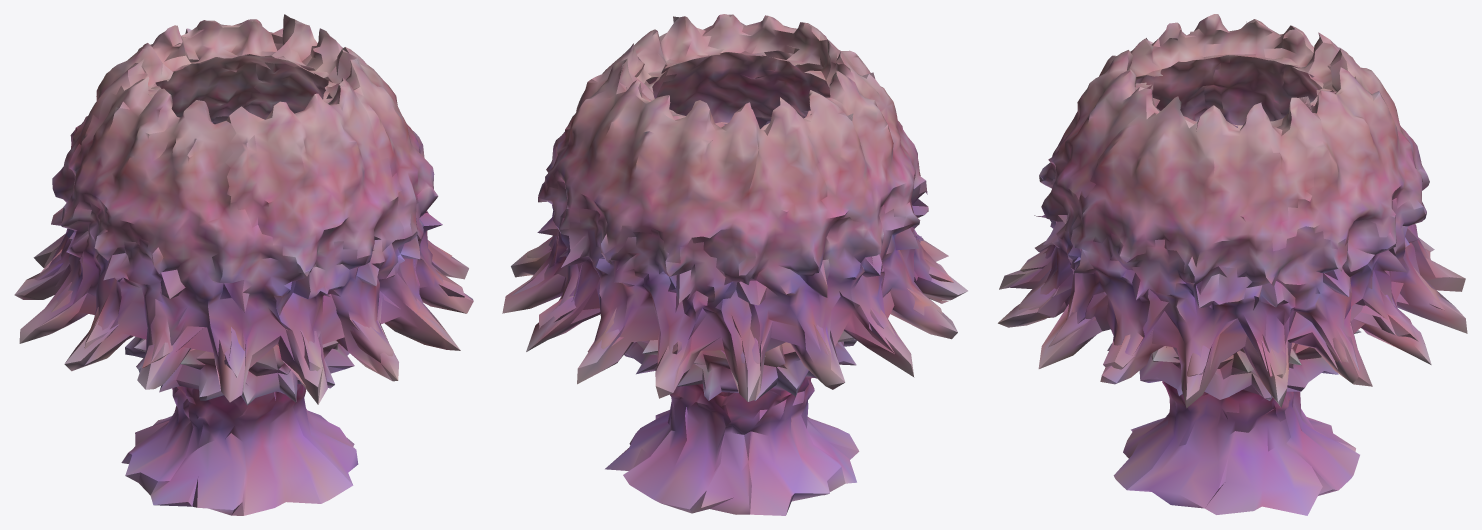
Rendered from alien_egg.glb.
The picture shows the model from 3 angles, left to right: view 1: azimuth 30°, elevation 25°; view 2: azimuth 150°, elevation 25°; view 3: azimuth 270°, elevation 25°; orthographic projection.
Parts seen in each view (by area): view 1: Object_2, Object_3; view 2: Object_3, Object_2; view 3: Object_2, Object_3.
Part boxes in pixels (x1=…): Object_2: x1=34, y1=14, x2=464, y2=484; Object_3: x1=14, y1=19, x2=473, y2=515; Object_3: x1=511, y1=14, x2=957, y2=513; Object_2: x1=502, y1=16, x2=967, y2=515; Object_2: x1=998, y1=14, x2=1467, y2=515; Object_3: x1=1019, y1=25, x2=1444, y2=495.
Bounding box in the file's own units: 0.8718 × 0.8466 × 0.871.
